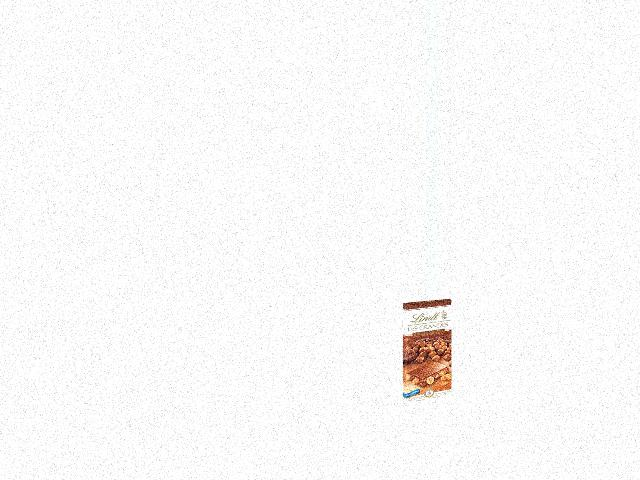chocolate: (399, 302, 459, 399)
